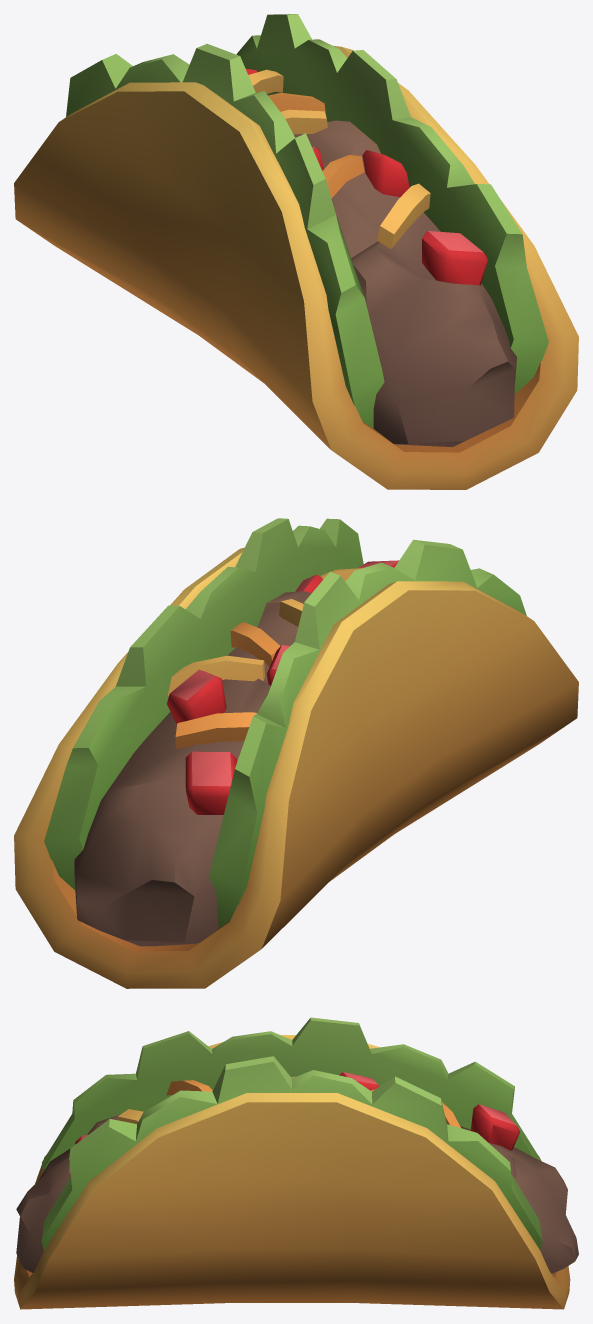
The model's file is taco.fbx.
The picture shows the model from 3 angles, top to bottom: view 1: azimuth 30°, elevation 25°; view 2: azimuth 150°, elevation 25°; view 3: azimuth 270°, elevation 25°; orthographic projection. The views are drawn at different scales.
Visible parts, largest first — view 1: taco; view 2: taco; view 3: taco.
Boxes of the visible parts, x1,y1,x2,y2 form: taco: [14, 14, 578, 489]; taco: [14, 518, 578, 988]; taco: [14, 1017, 578, 1309].
Bounding box in the file's own units: 45.35 × 50.75 × 102.
